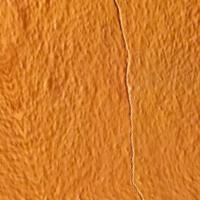crack: (96, 0, 150, 102)
